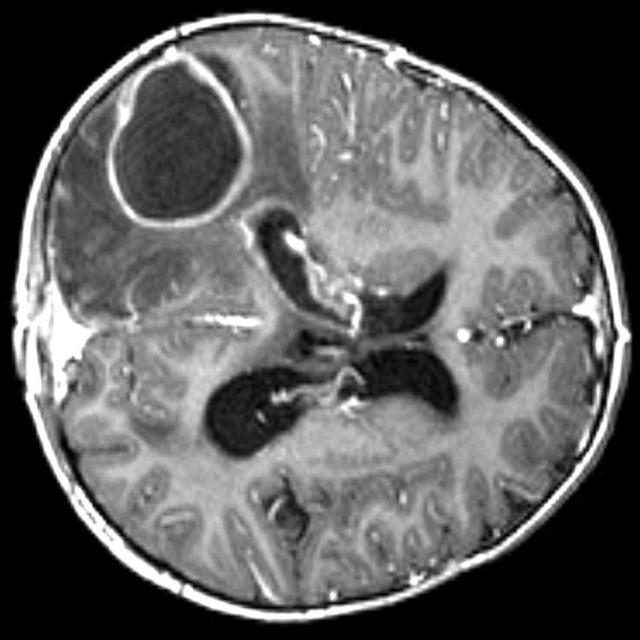tumor: (99, 56, 255, 232)
